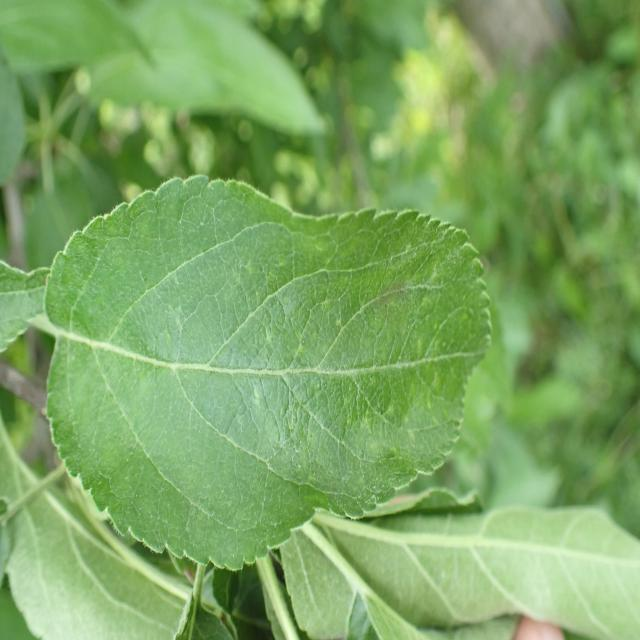scab: (149, 228, 505, 440)
